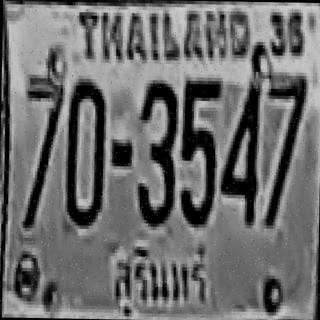N00: (65, 77, 105, 224)
N03: (135, 76, 177, 224)
N04: (218, 80, 260, 224)
N05: (178, 77, 218, 224)
N07: (22, 68, 64, 225), (264, 72, 306, 226)
P68: (108, 238, 212, 320)
